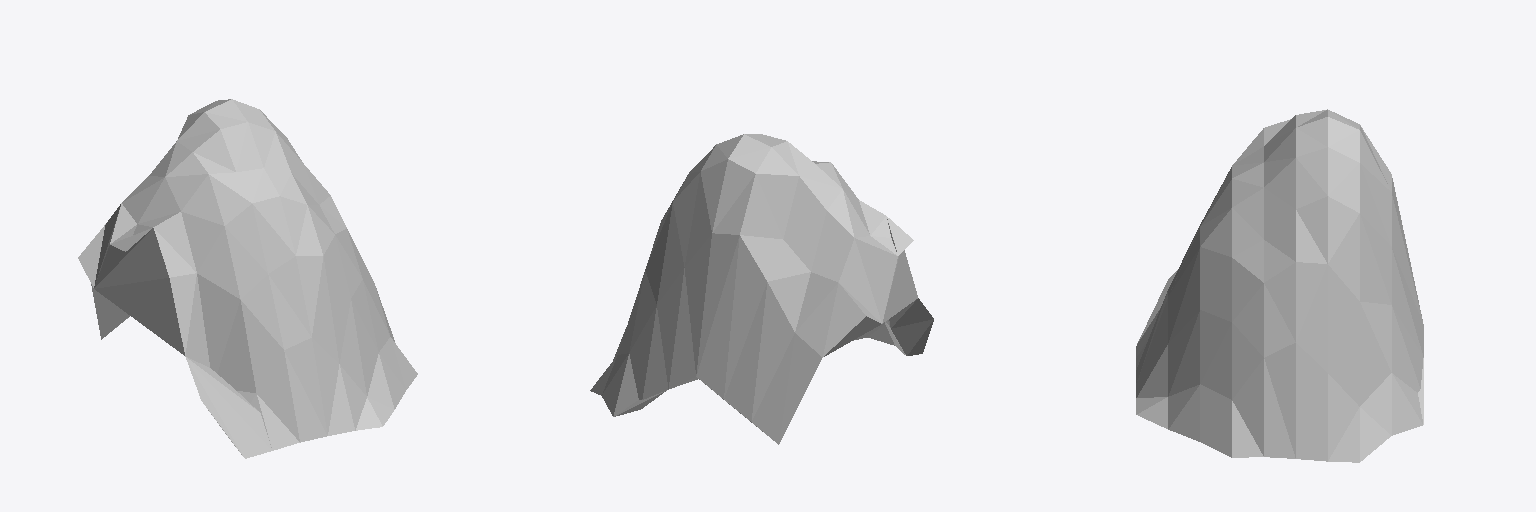
Rendered from tree_48.obj.
The picture shows the model from 3 angles: view 1: azimuth 30°, elevation 25°; view 2: azimuth 150°, elevation 25°; view 3: azimuth 270°, elevation 25°; orthographic projection.
Visible parts, largest first — view 1: tree_48; view 2: tree_48; view 3: tree_48.
Boxes of the visible parts, box(x1,y1,x2,y2) form: tree_48: box(78, 99, 417, 458); tree_48: box(590, 134, 933, 444); tree_48: box(1136, 109, 1423, 462).
Bounding box in the file's own units: 10 × 9.64 × 9.